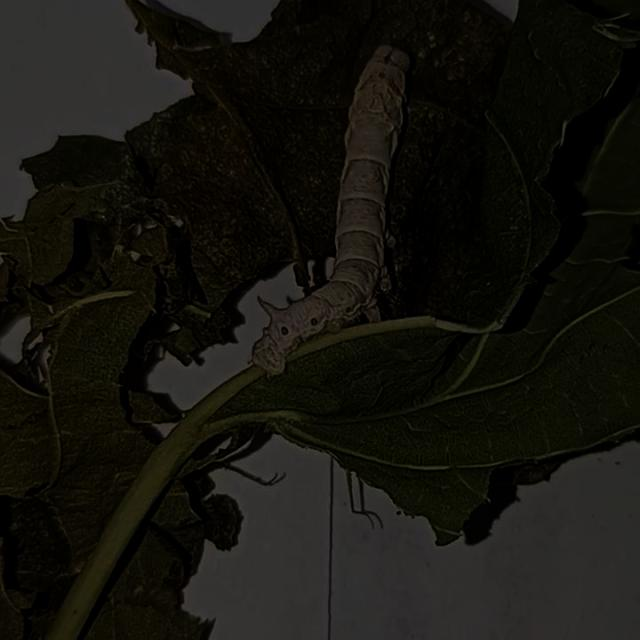Healthy: (241, 39, 429, 380)
